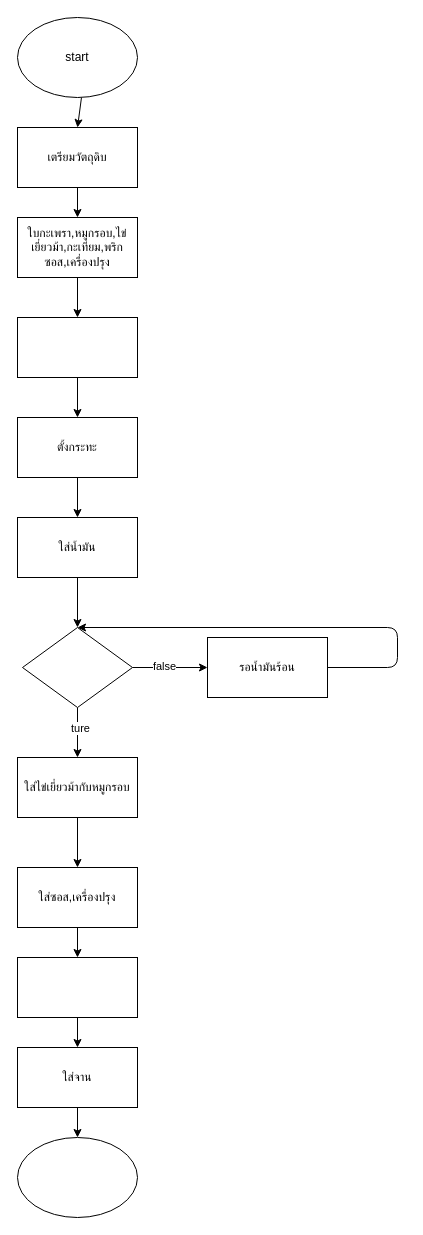
Some shapes in this 423 by 1235 pixel diagram are drawn without their labels. The centre of each missing label's shape, as x and y in pixels:
"End" goes at [77,1177].
"ผัดให้เข้ากัน" goes at [77,987].
"ร้อนรึยัง" goes at [77,667].
"เปิดแก๊ส" goes at [77,347].
